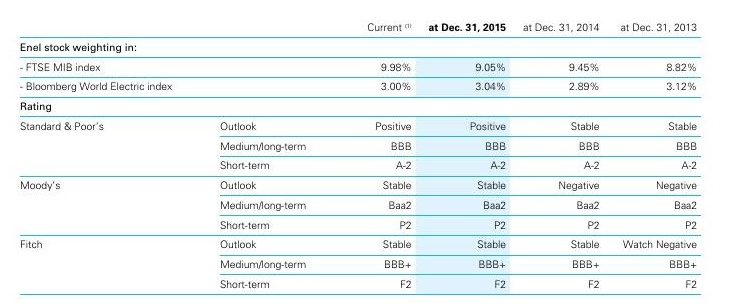table: (0, 0, 730, 304)
